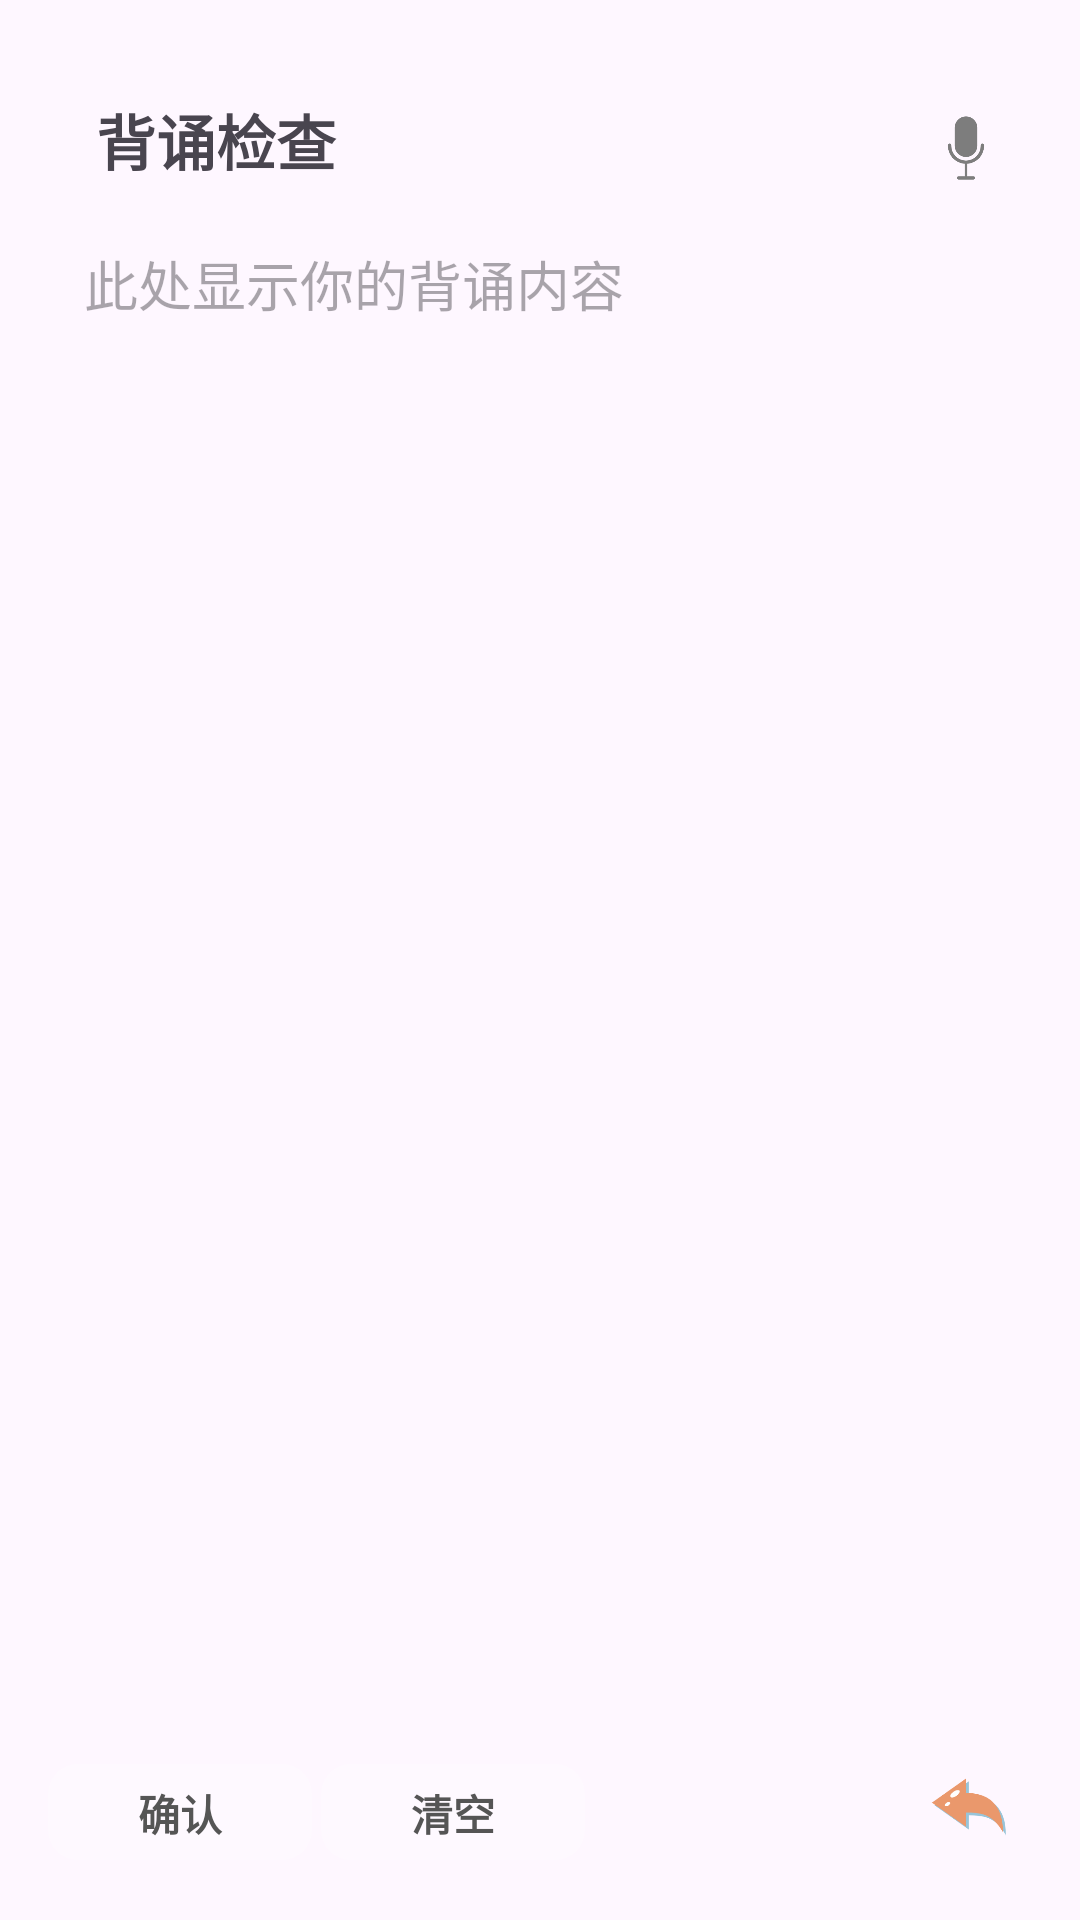

Where to tap for icons on this 1080w x 1920h app screen, as [x,y]:
microphone: [966,148]
